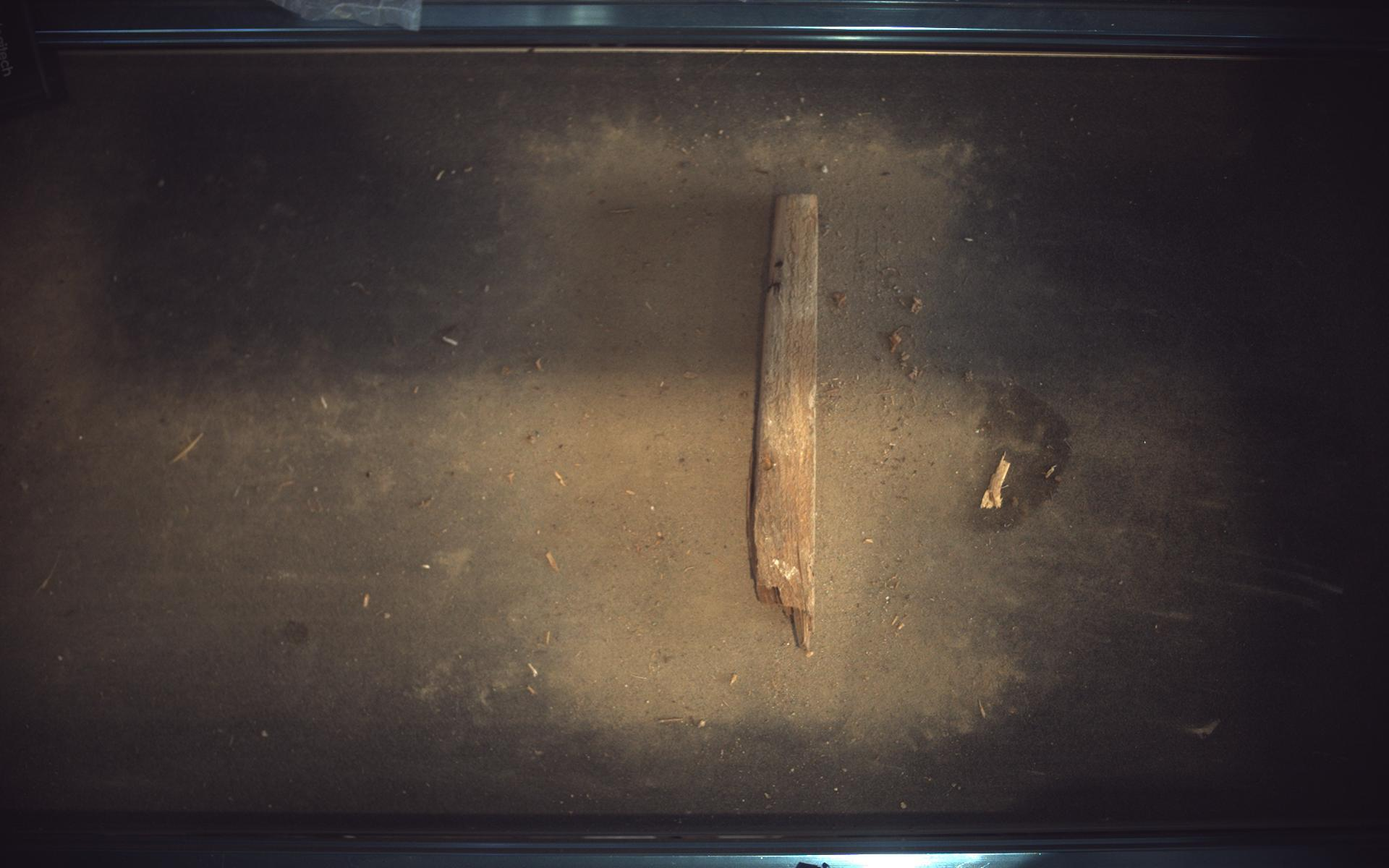wood: (752, 192, 820, 653)
